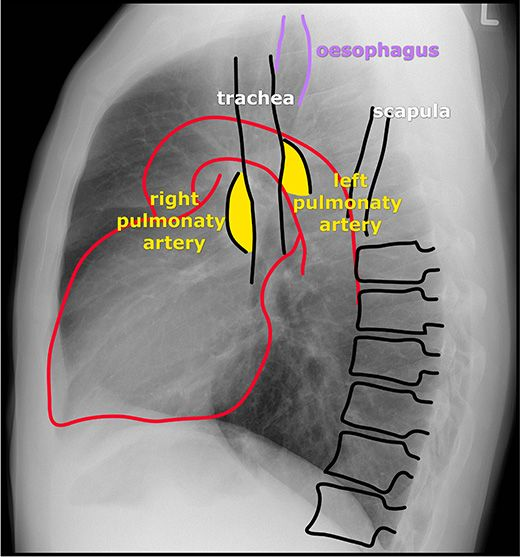telestration: (302, 241, 445, 540), (262, 53, 310, 255), (225, 53, 258, 283), (292, 172, 408, 235), (115, 192, 226, 254), (340, 102, 378, 225), (364, 109, 394, 238), (316, 42, 441, 64), (215, 91, 296, 108), (373, 104, 452, 120)
